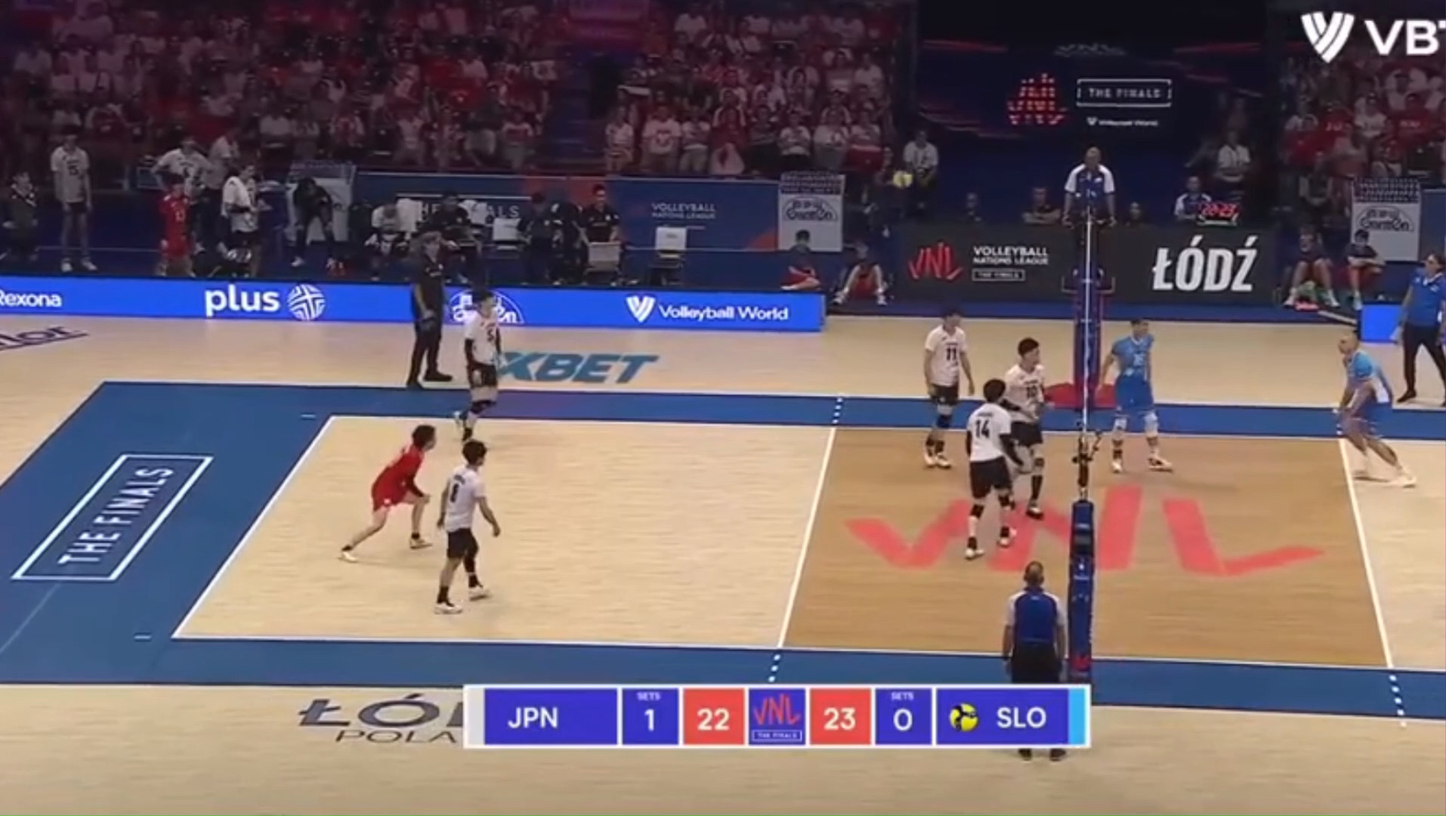ball: (891, 169, 913, 189)
player: (1336, 334, 1414, 486), (1105, 320, 1172, 473)
player 1: (340, 423, 437, 561), (435, 439, 500, 613), (966, 378, 1019, 558), (1001, 337, 1049, 518), (922, 310, 974, 469), (454, 287, 502, 442)
referee: (1061, 147, 1115, 295), (1002, 561, 1066, 683), (406, 231, 452, 388), (1398, 253, 1445, 402)
